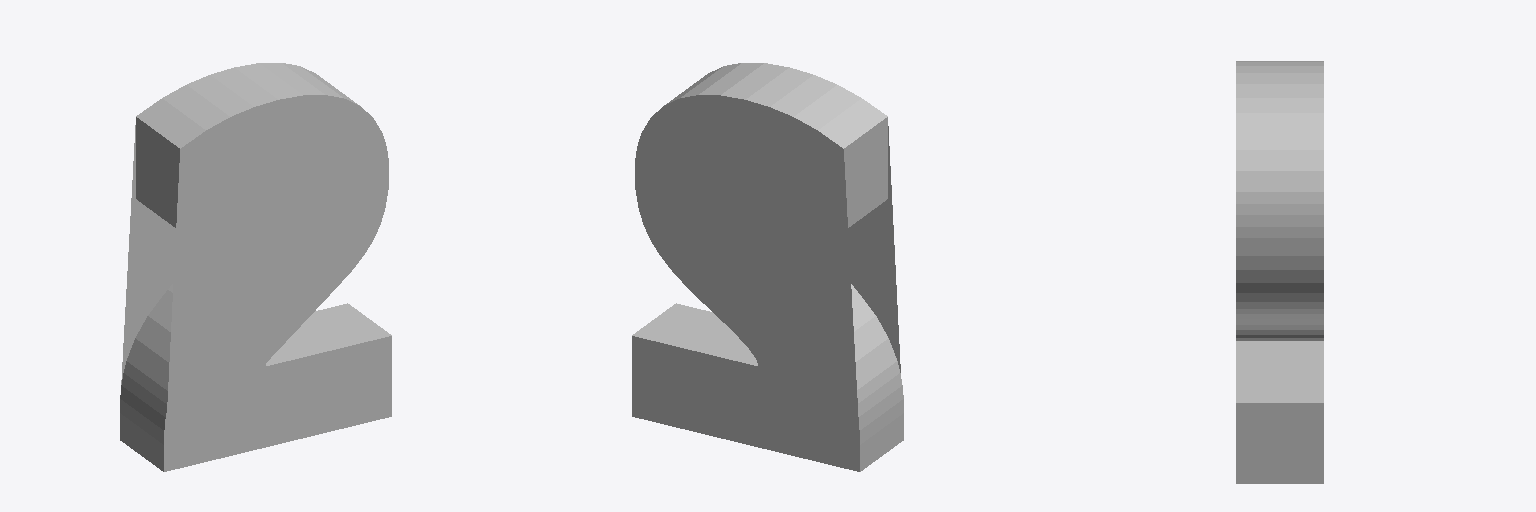
3 views of the same model, side by side, from view 1: azimuth 30°, elevation 25°; view 2: azimuth 150°, elevation 25°; view 3: azimuth 270°, elevation 25° (orthographic).
Parts seen in each view (by area): view 1: typeMesh1; view 2: typeMesh1; view 3: typeMesh1.
Boxes of the visible parts, x1=… form: typeMesh1: x1=120, y1=63, x2=391, y2=471; typeMesh1: x1=632, y1=63, x2=903, y2=471; typeMesh1: x1=1236, y1=61, x2=1323, y2=483.
Size of the model in its own units: 7.45 by 10.74 by 2.5.